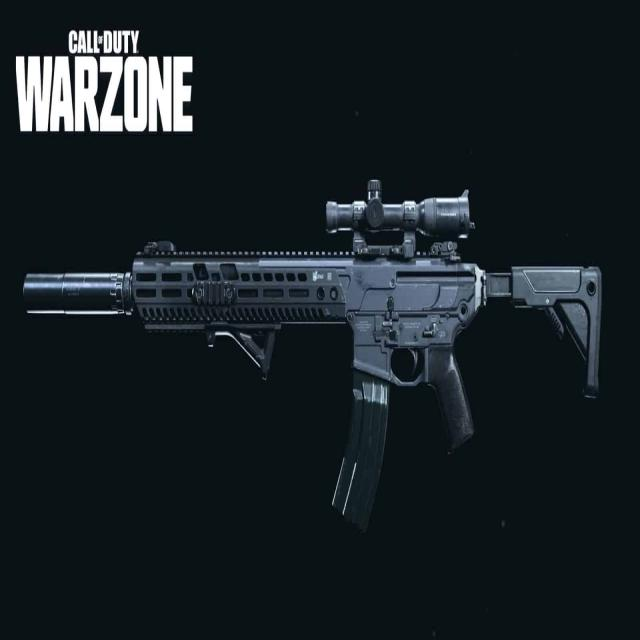Rifle: (24, 180, 603, 535)
